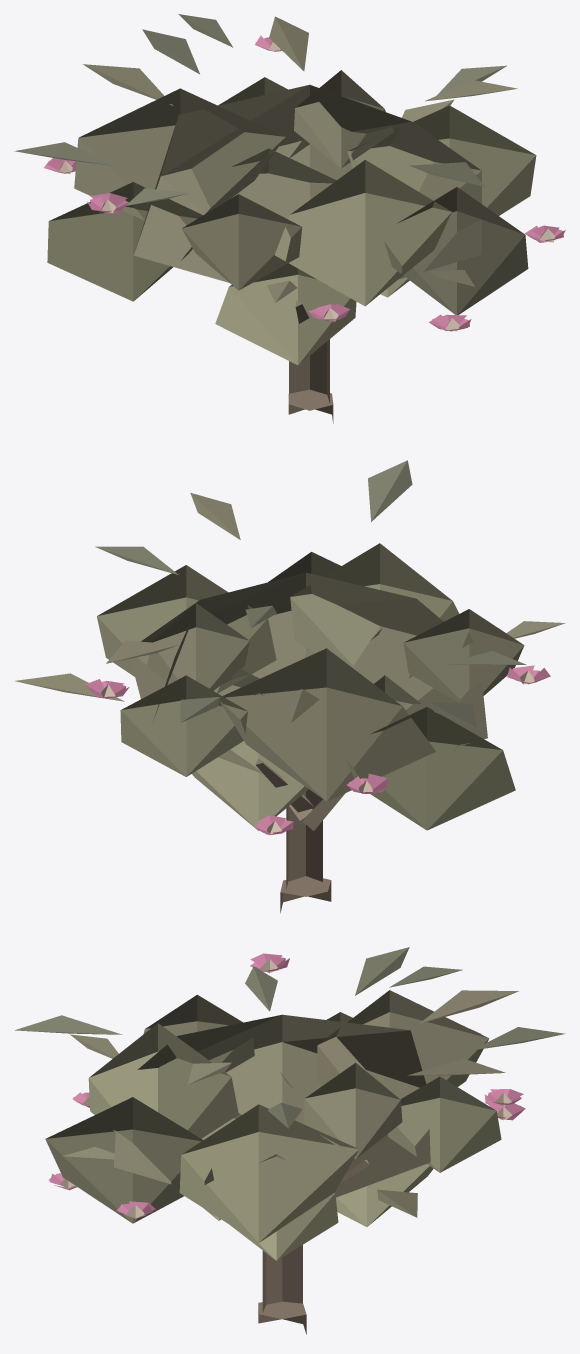
File: nong.sang@flowering__winter.glb
3 renders of one model, top to bottom at view 1: azimuth 30°, elevation 25°; view 2: azimuth 150°, elevation 25°; view 3: azimuth 270°, elevation 25°, orthographic. The views are drawn at different scales.
Parts seen in each view (by area): view 1: nong.sang@flowering__winter; view 2: nong.sang@flowering__winter; view 3: nong.sang@flowering__winter.
Part boxes in pixels (x1,y1,x2,y2): nong.sang@flowering__winter: (14, 14, 565, 423); nong.sang@flowering__winter: (15, 460, 565, 913); nong.sang@flowering__winter: (15, 947, 565, 1334).
Bounding box in the file's own units: 8.5 × 6.33 × 9.27.
